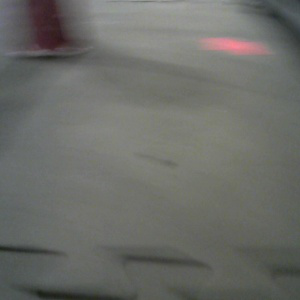Middle: (25, 1, 71, 54)
